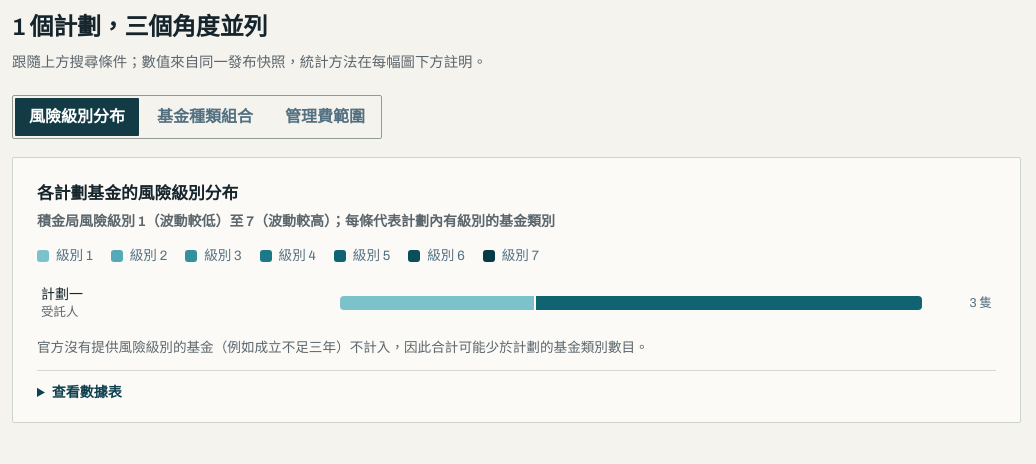
it: scheme overview › counts official fund-type families without inventing categories
Expected: the text "各計劃管理費範圍" is not shown
Click the button "管理費範圍". click: point(325, 117)
box: 271,98 -> 379,136
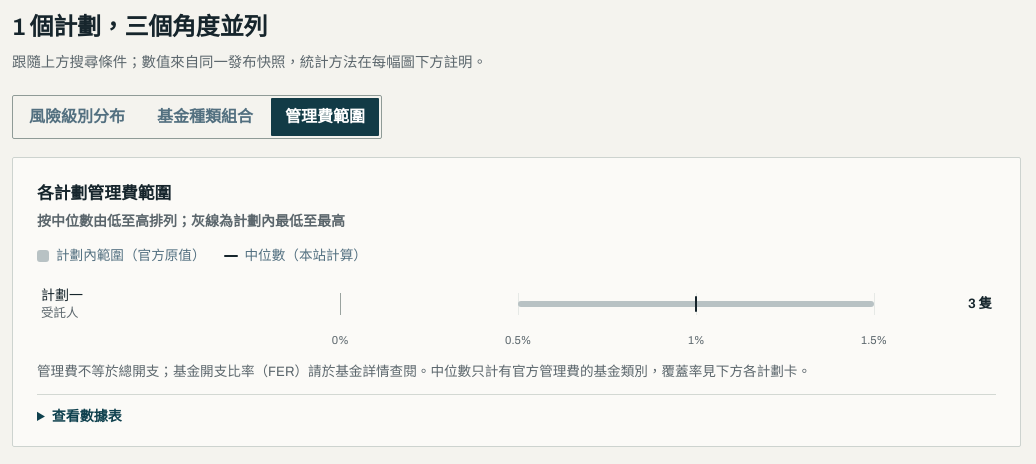
Now the text "各計劃管理費範圍" is shown, box 37,184 -> 171,203
Click the button "基金種類組合". click: point(205, 117)
box: 143,98 -> 267,136
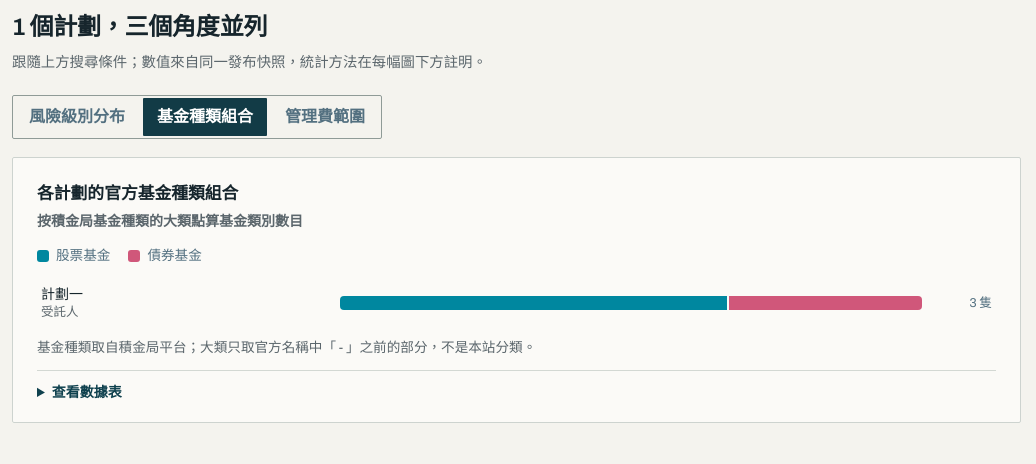
Now the list item with aria-label "計劃一：股票基金 2 隻，債券基金 1 隻（合計 3 隻）" is shown, box 37,282 -> 996,325
Click the button "風險級別分布". click: point(77, 117)
box: 15,98 -> 139,136
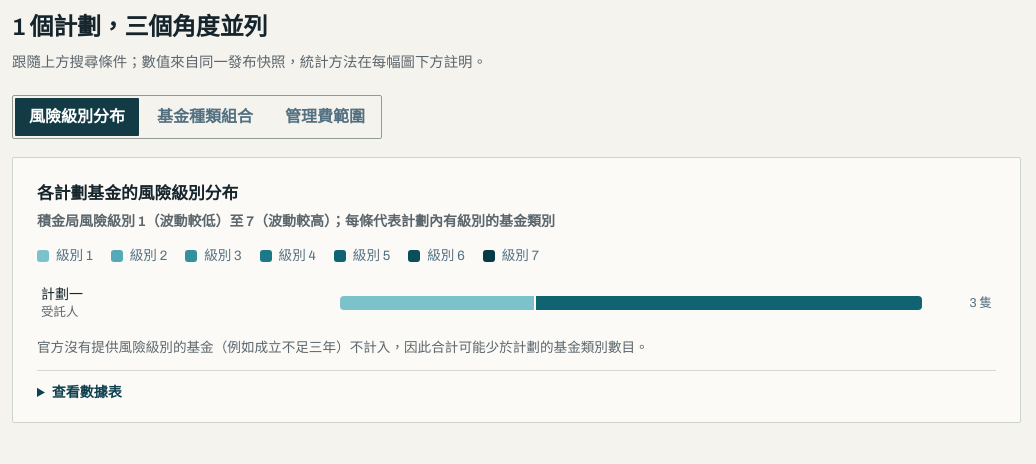
Now the list item with aria-label "計劃一：級別 1 1 隻，級別 5 2 隻（合計 3 隻）" is shown, box 37,282 -> 996,325
